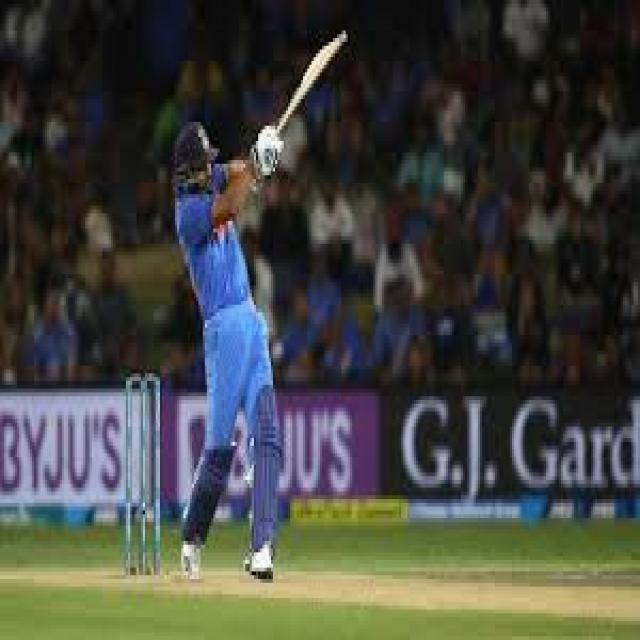toe: (330, 30, 354, 56)
